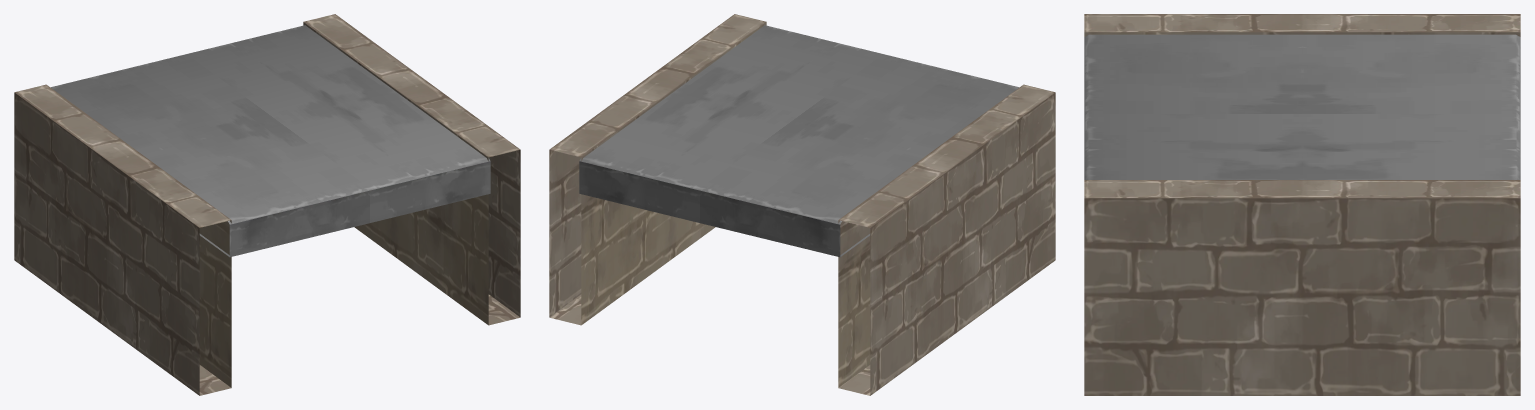
File: Stairs_Exterior_Platform.glb
The picture shows the model from 3 angles, left to right: view 1: azimuth 30°, elevation 25°; view 2: azimuth 150°, elevation 25°; view 3: azimuth 270°, elevation 25°; orthographic projection. The views are drawn at different scales.
Parts seen in each view (by area): view 1: Stairs_Exterior_Platform; view 2: Stairs_Exterior_Platform; view 3: Stairs_Exterior_Platform.
Part boxes in pixels (bbox=[...]): Stairs_Exterior_Platform: bbox=[14, 14, 520, 395]; Stairs_Exterior_Platform: bbox=[549, 14, 1055, 395]; Stairs_Exterior_Platform: bbox=[1084, 14, 1520, 395].
Size of the model in its own units: 2 by 1 by 2.
Materials: 2 (2 with a texture image).
